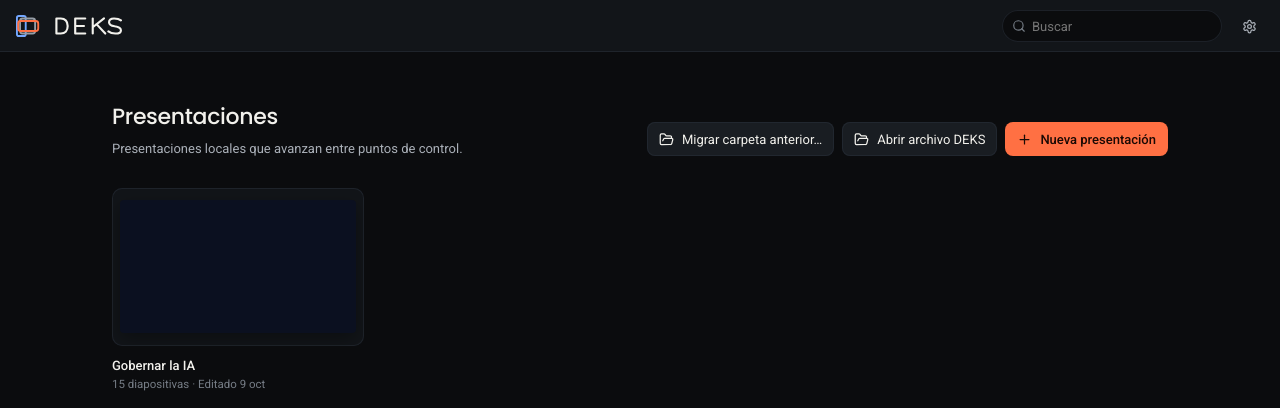
Test: Home › filtra por texto y ofrece limpiar la búsqueda cuando nada coincide
Type "gobernar" into the search field named "Buscar presentación" at {"x": 1112, "y": 26}, box [1002, 10, 1222, 42]
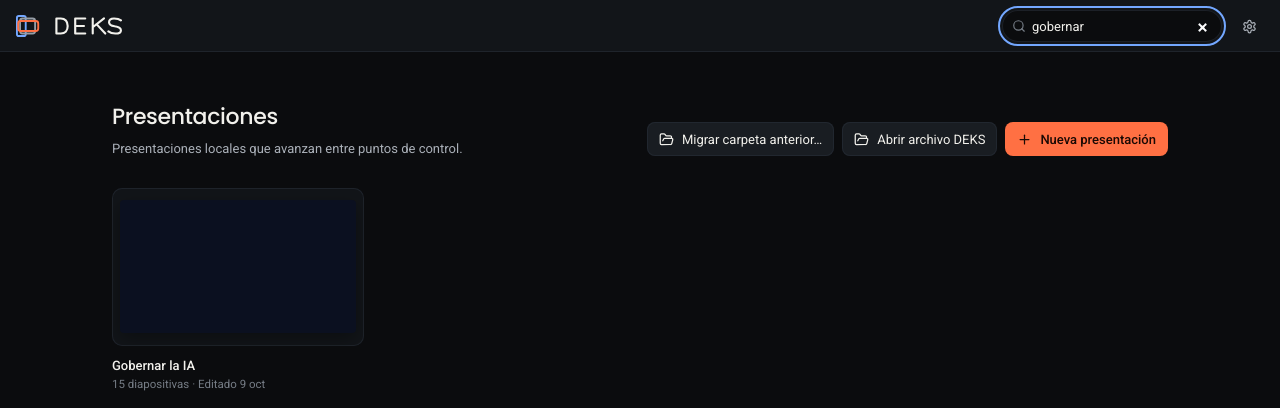
Expected: the button "Gobernar la IA 15 diapositivas · Editado 9 oct" is shown, [112, 188, 364, 390]
Replace the text in the search field named "Buscar presentación" with "nada" at {"x": 1112, "y": 26}, box [1002, 10, 1222, 42]
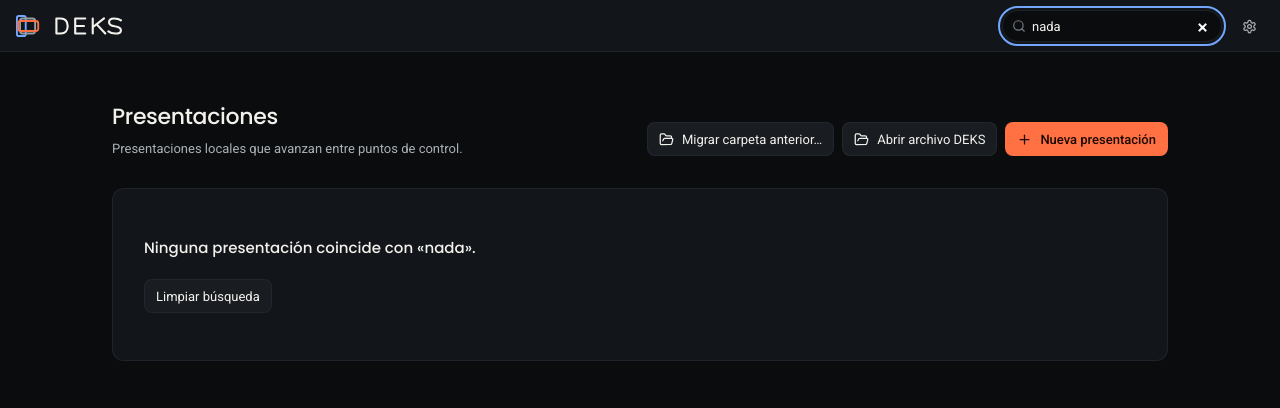
Expected: the text "Ninguna presentación coincide con «nada»." is shown, [144, 236, 476, 259]
Click the button "Limpiar búsqueda" at {"x": 208, "y": 296}, box [144, 279, 272, 313]
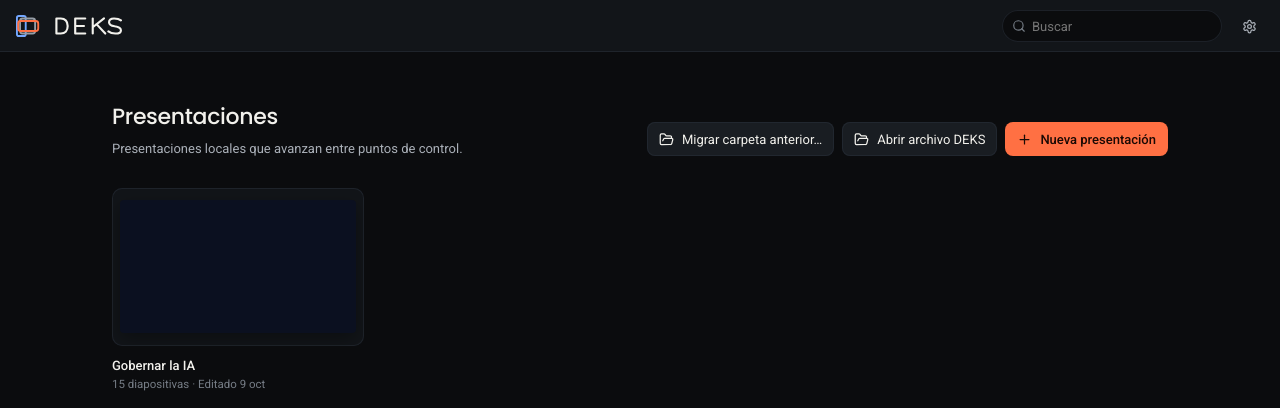
Expected: the button "Gobernar la IA 15 diapositivas · Editado 9 oct" is shown, [112, 188, 364, 390]
